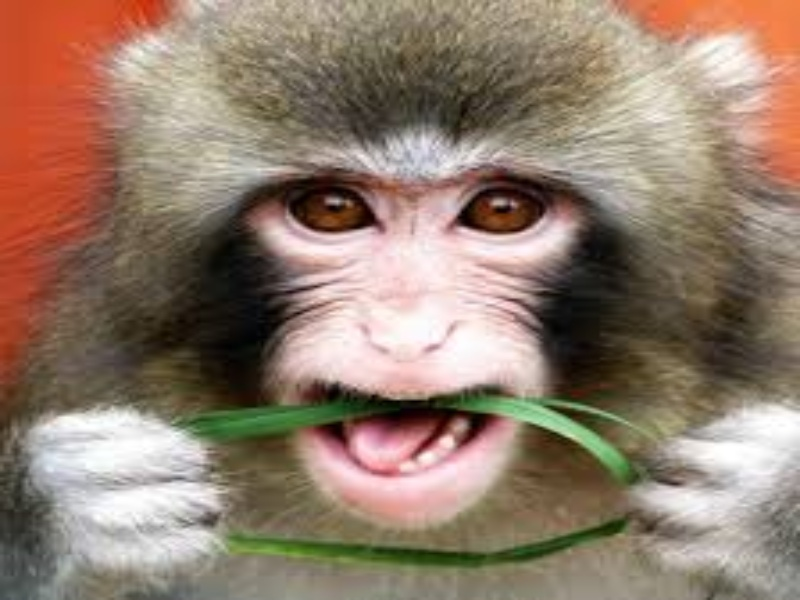monkey: (22, 9, 792, 589)
